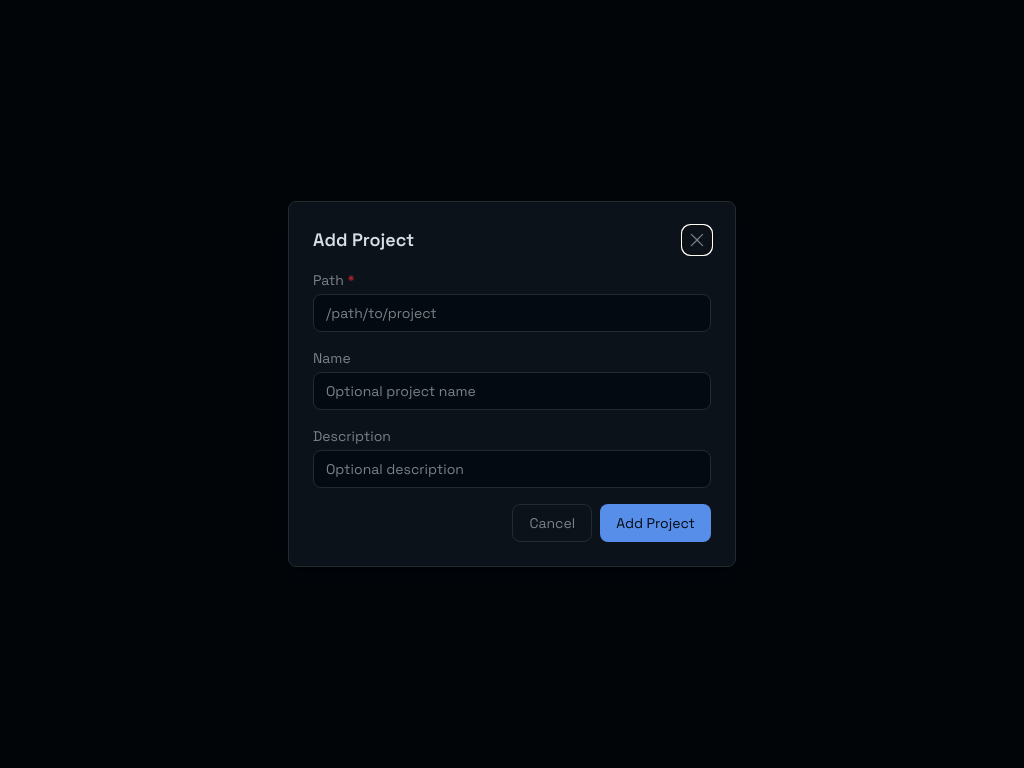
Scenario: AddProjectDialog › shows 409 conflict error (T24)
Type "/workspaces/x" into the field labelled "Path *".
click(512, 313); type("/workspaces/x")  # box 313,294 -> 711,332
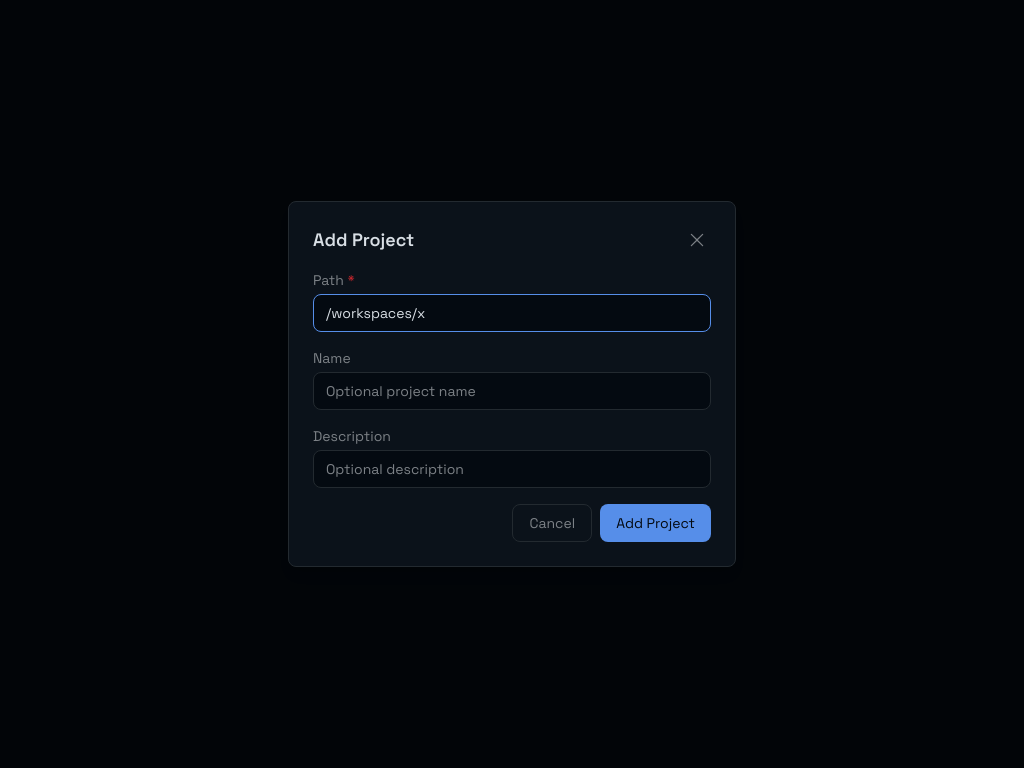
Click the button "Add Project".
click(656, 523)  # box 600,504 -> 711,542
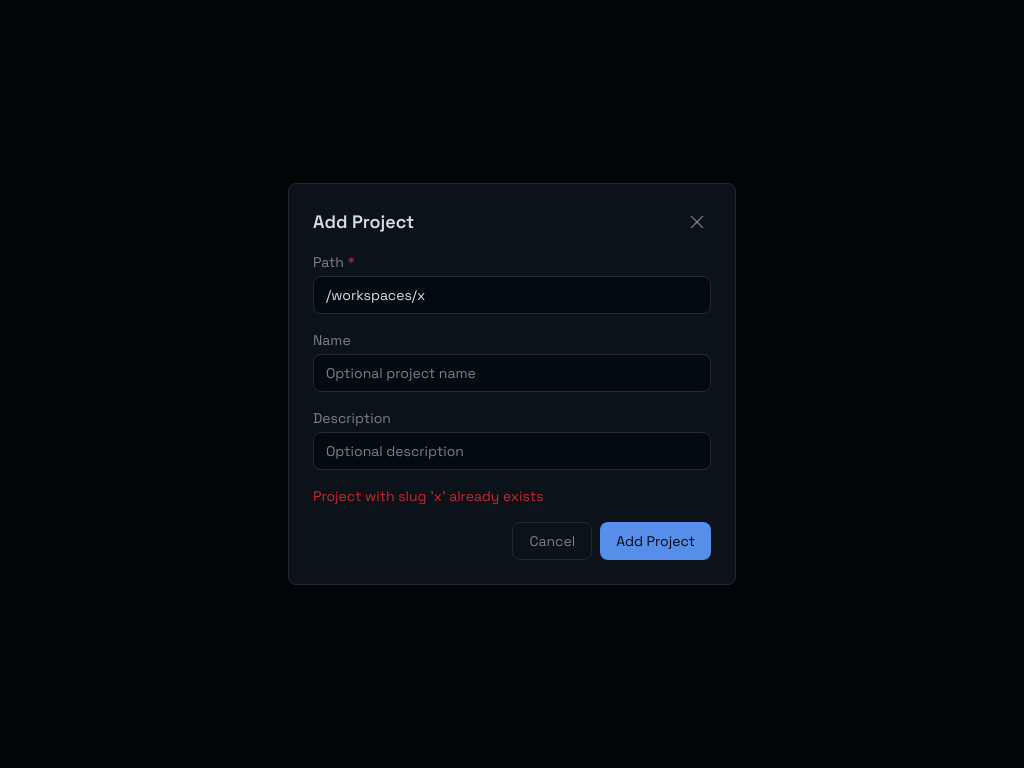
Result: the text "Project with slug 'x' already exists" is shown at 313,487 -> 544,505
